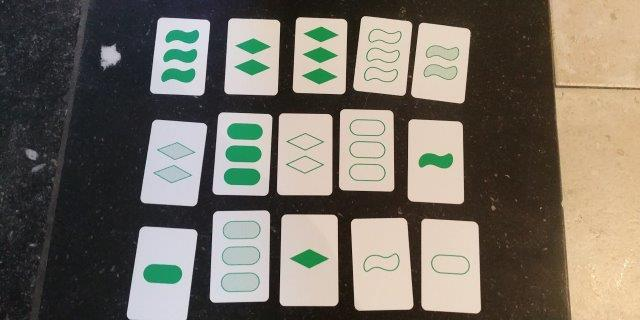1EP: (424, 225, 475, 309)
1EW: (357, 222, 406, 308)
1FD: (284, 216, 336, 305)
1FP: (140, 230, 186, 317)
1FW: (411, 124, 460, 200)
2ED: (281, 115, 330, 192)
2FD: (230, 20, 278, 94)
2HD: (152, 124, 196, 200)
2HW: (422, 29, 463, 96)
3EP: (342, 111, 391, 187)
3EW: (362, 23, 404, 90)
3FD: (298, 20, 342, 92)
3FP: (219, 116, 268, 192)
3FW: (159, 20, 204, 92)
3HP: (216, 213, 267, 300)
